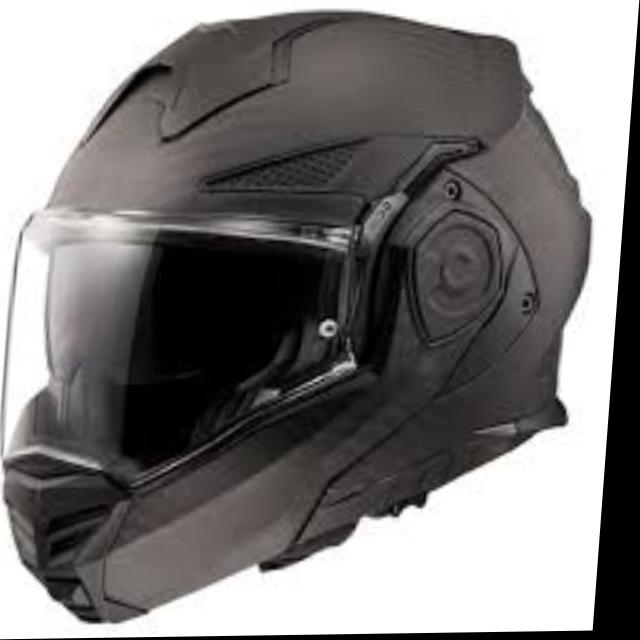motorcycle-helmets: (0, 0, 607, 623)
